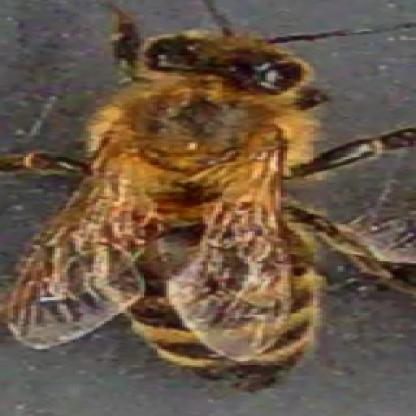bee: (46, 24, 340, 406)
